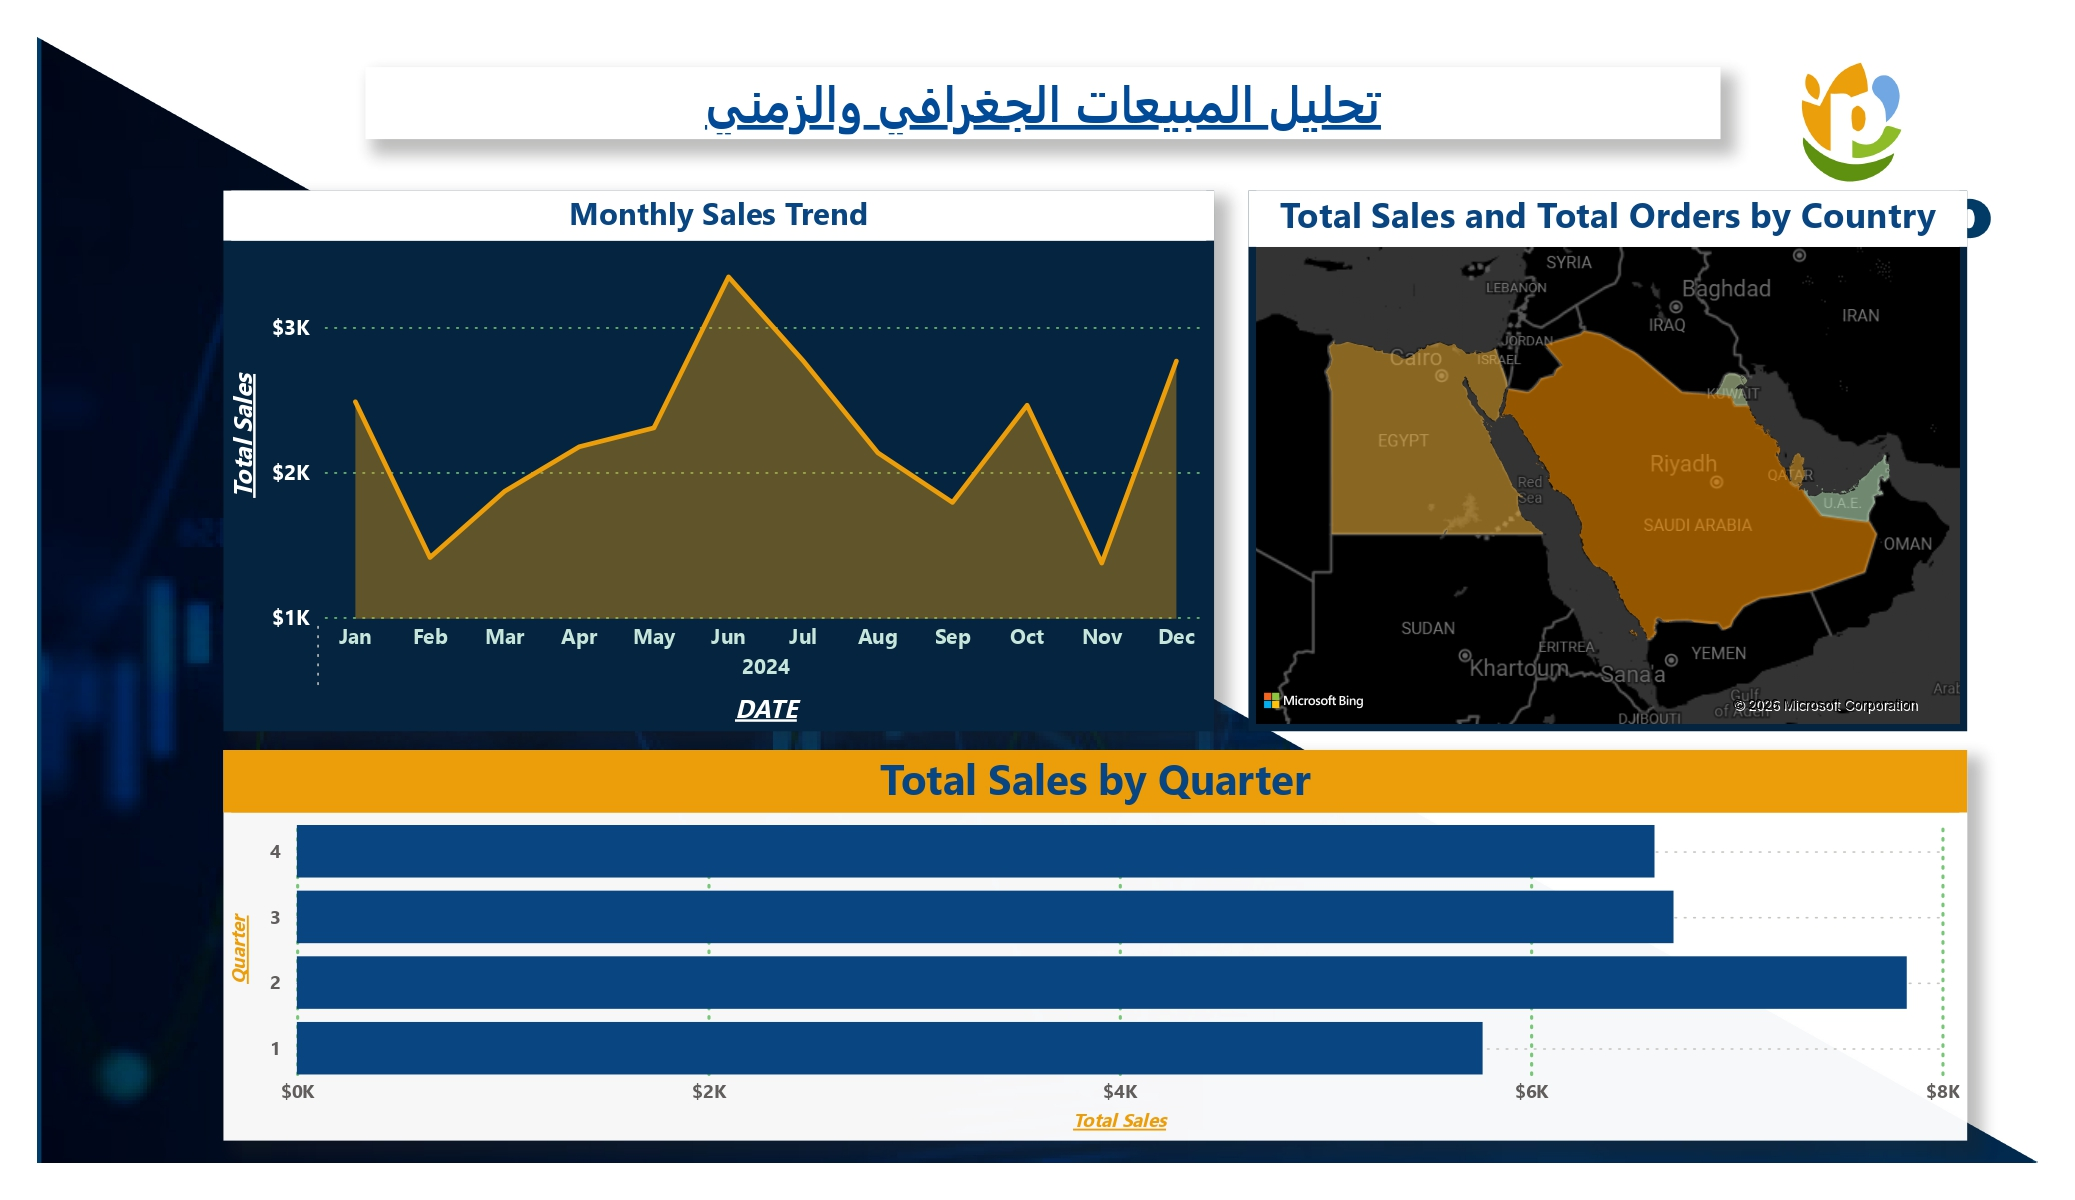

What the dashboard file says about the page in this screenshot:
{"tool":"powerbi","page":{"name":"Sales Analysis","canvas":[1280,720],"ordinal":1},"visuals":[{"type":"areaChart","title":"Monthly Sales Trend","fields":{"Category":["Calendar.Year","Calendar.Month_name","Calendar.Quarter"],"Y":["InvoiceDetails.Total Sales"]},"box":[118.8,98.5,634.6,345.4],"z":0},{"type":"filledMap","fields":{"Category":["Customers.Country"]},"box":[775.2,98.5,459.5,345.4],"z":1000},{"type":"clusteredBarChart","fields":{"Y":["InvoiceDetails.Total Sales"],"Category":["Calendar.Quarter"]},"box":[118.8,456.4,1116,250.1],"z":2000},{"type":"textbox","title":"تحليل المبيعات الجغرافي والزمني ","box":[209.6,19.2,867.3,46.2],"z":3000}]}

Visuals, with their boxes on the page's 1280x720 design canvas (x1, y1, x2, y2). These are canvas units, not pixel positions in the 2075x1200 screenshot, which may show the page scaled, cropped or inside an application window:
"Monthly Sales Trend" areaChart: [x1=119, y1=98, x2=753, y2=444]
filledMap - Customers.Country: [x1=775, y1=98, x2=1235, y2=444]
clusteredBarChart - InvoiceDetails.Total Sales x Calendar.Quarter: [x1=119, y1=456, x2=1235, y2=706]
"تحليل المبيعات الجغرافي والزمني " textbox: [x1=210, y1=19, x2=1077, y2=65]
